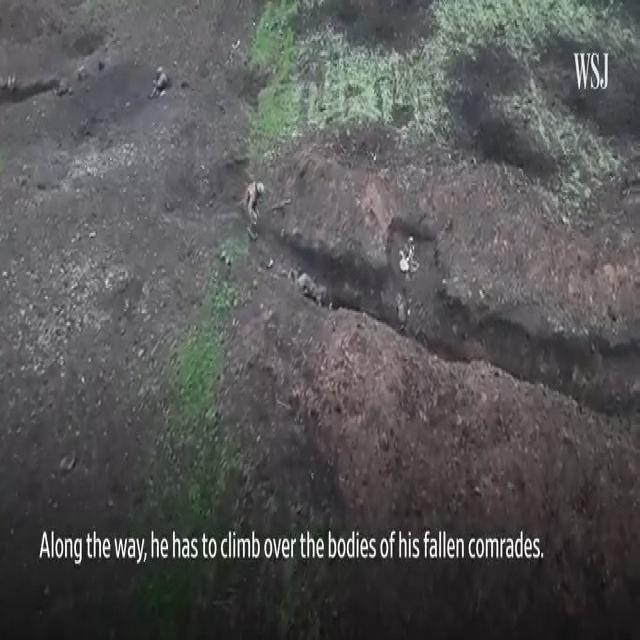MIL_Pax: (242, 182, 264, 239), (149, 67, 169, 97)
